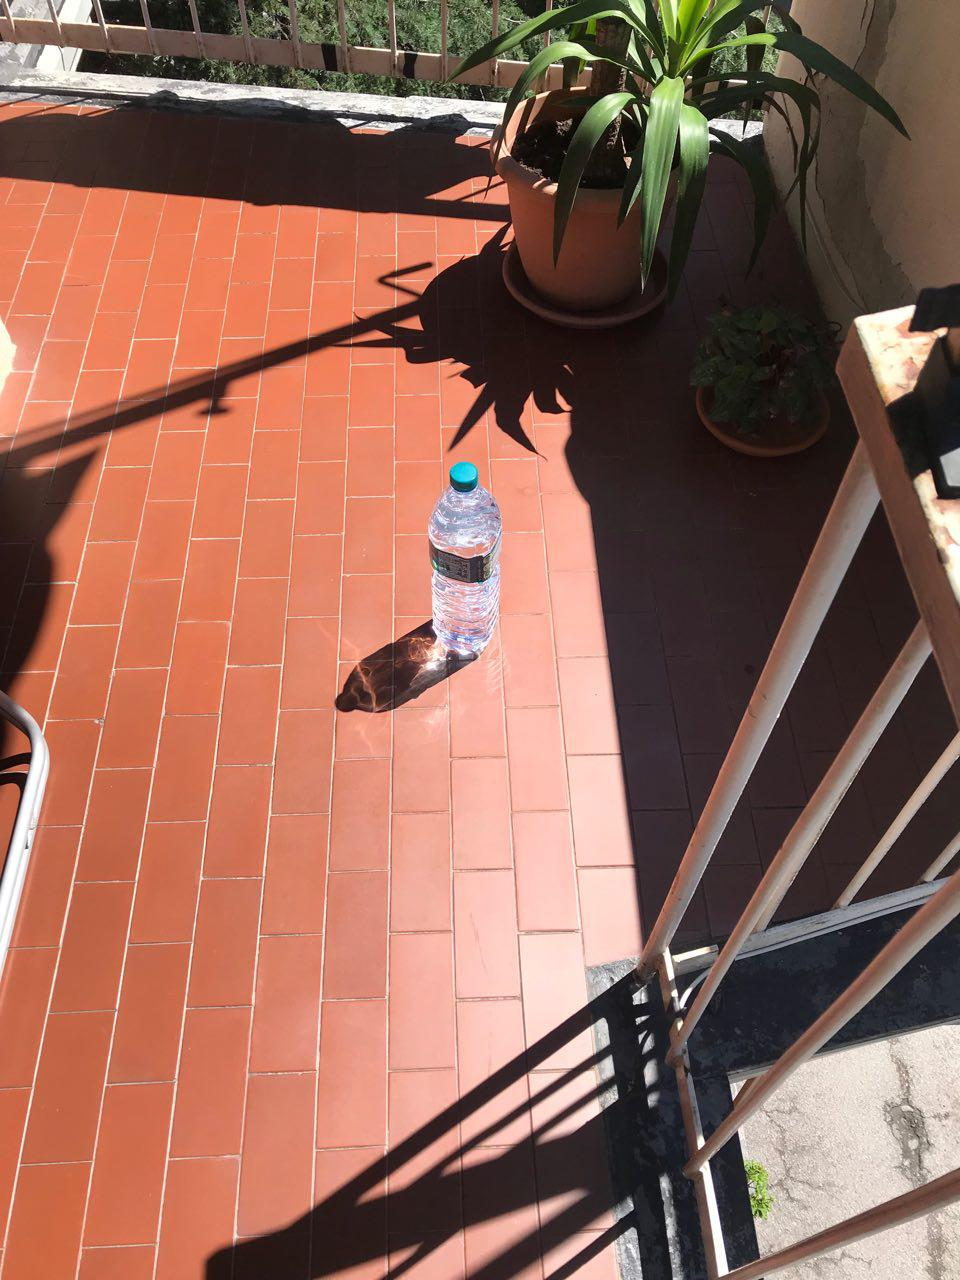san_bernardo: (427, 459, 502, 653)
